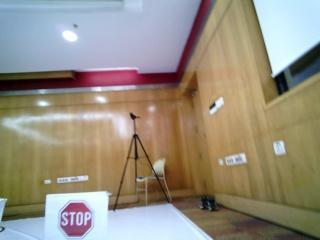stop: (55, 199, 101, 235)
